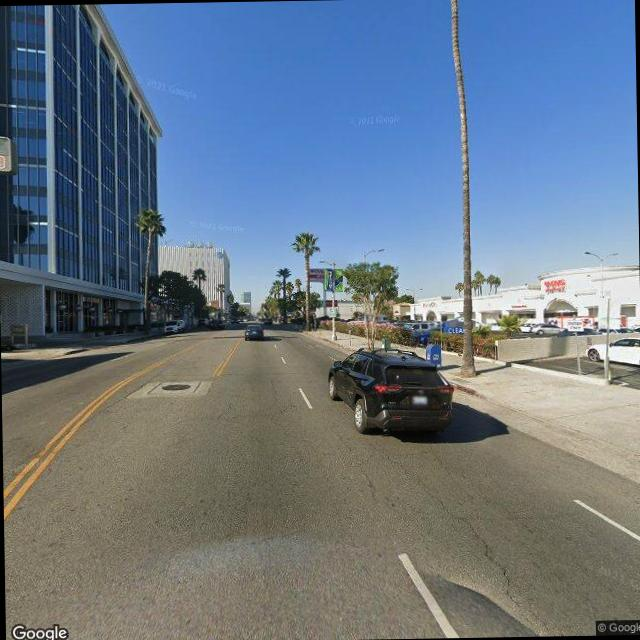crack: (381, 440, 540, 624), (336, 431, 378, 506)
